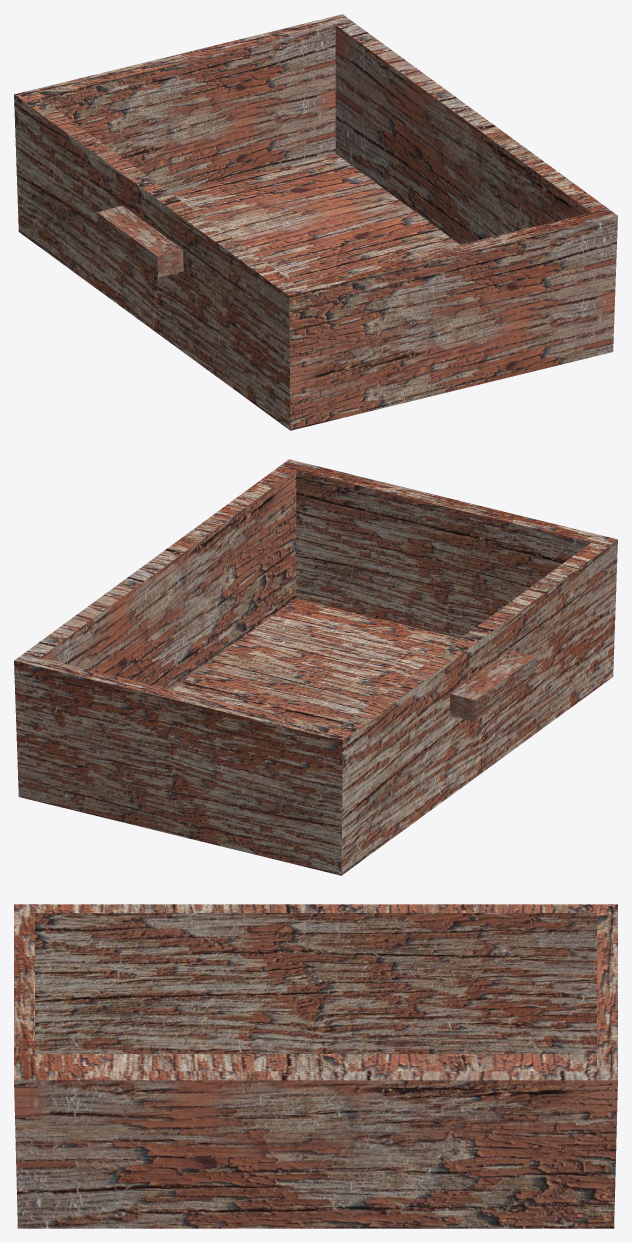
The model's file is Table_drawer.FBX.
3 views of the same model, one above another, from view 1: azimuth 30°, elevation 25°; view 2: azimuth 150°, elevation 25°; view 3: azimuth 270°, elevation 25° (orthographic). The views are drawn at different scales.
Visible parts, largest first — view 1: Object001; view 2: Object001; view 3: Object001.
Boxes of the visible parts, bbox=[...] form: Object001: bbox=[14, 14, 617, 430]; Object001: bbox=[14, 459, 617, 875]; Object001: bbox=[14, 904, 617, 1228].
Size of the model in its own units: 38.84 by 14.36 by 52.34.
Materials: 1 (1 with a texture image).
